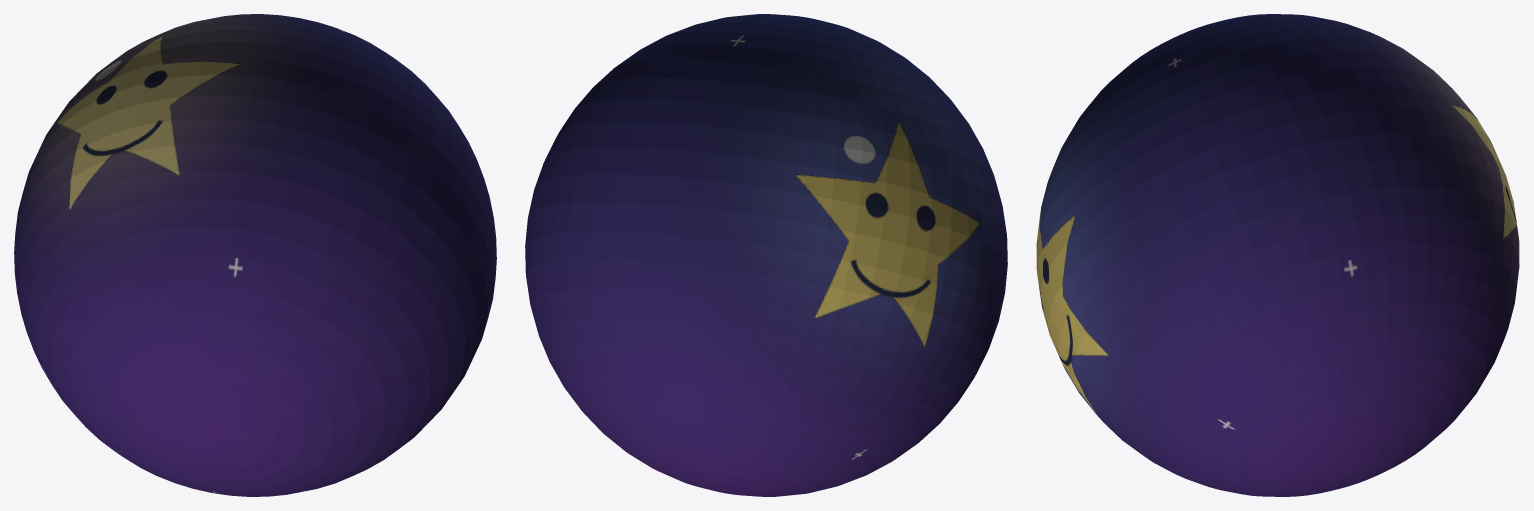
File: orb_star_simple.glb
3 views of the same model, side by side, from view 1: azimuth 30°, elevation 25°; view 2: azimuth 150°, elevation 25°; view 3: azimuth 270°, elevation 25° (orthographic).
Parts seen in each view (by area): view 1: orb_star_simple; view 2: orb_star_simple; view 3: orb_star_simple.
Boxes of the visible parts, bbox=[...] form: orb_star_simple: bbox=[14, 14, 496, 496]; orb_star_simple: bbox=[525, 14, 1007, 496]; orb_star_simple: bbox=[1036, 14, 1519, 496].
Bounding box in the file's own units: 2 × 2 × 2.
1 material, 1 textured.
